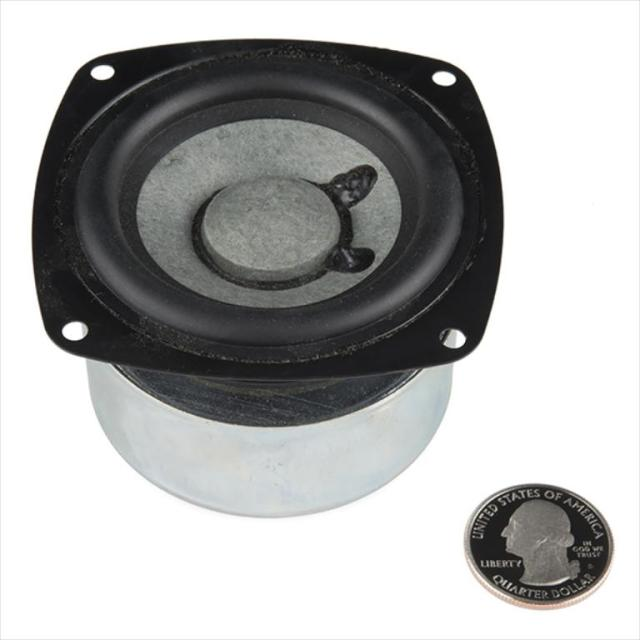Coin: (462, 480, 617, 610)
